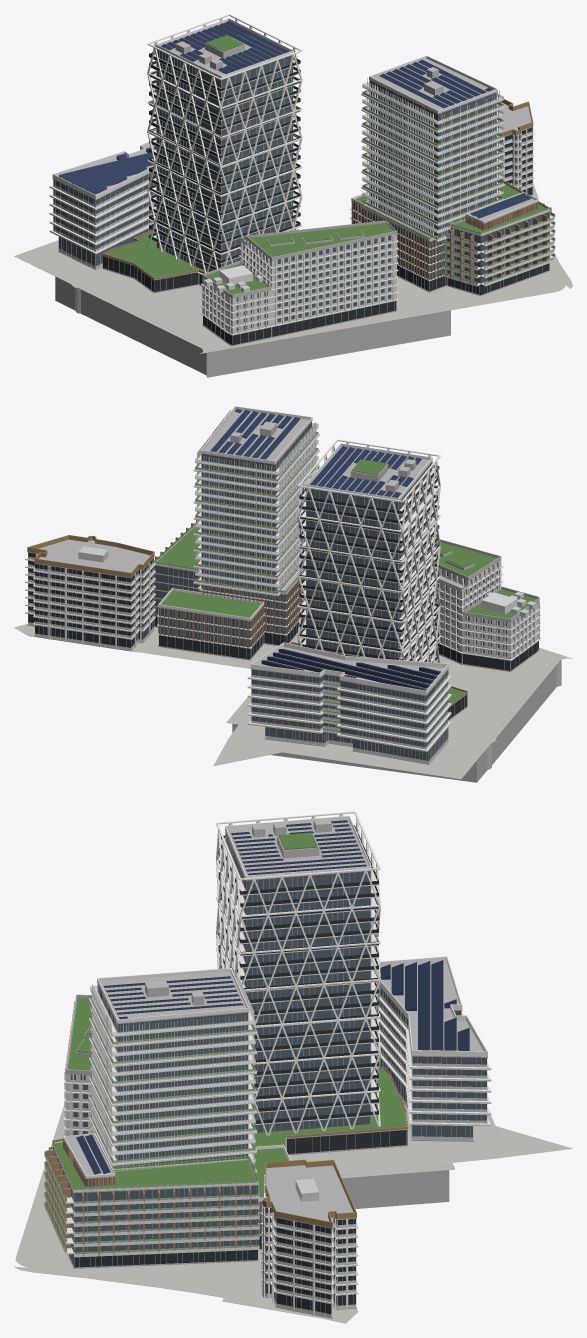
Rendered from model_web.glb.
3 renders of one model, top to bottom at view 1: azimuth 30°, elevation 25°; view 2: azimuth 150°, elevation 25°; view 3: azimuth 270°, elevation 25°, orthographic. The views are drawn at different scales.
Visible parts, largest first — view 1: scheme; view 2: scheme; view 3: scheme.
Boxes of the visible parts, x1,y1,x2,y2 form: scheme: (14, 14, 572, 377); scheme: (14, 406, 572, 782); scheme: (14, 811, 572, 1323).
Size of the model in its own units: 192 by 95.85 by 154.
